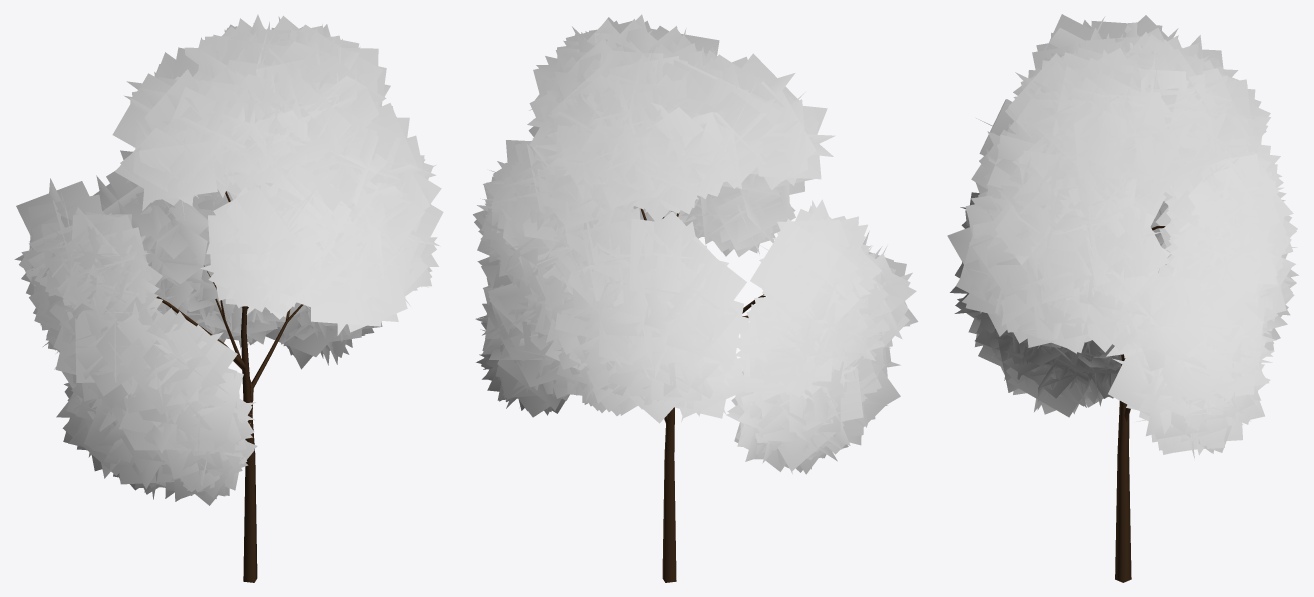
File: treeduckgame 1.fbx
The picture shows the model from 3 angles, left to right: view 1: azimuth 30°, elevation 25°; view 2: azimuth 150°, elevation 25°; view 3: azimuth 270°, elevation 25°; orthographic projection.
Visible parts, largest first — view 1: Leaves, trunk; view 2: Leaves, trunk; view 3: Leaves, trunk.
Boxes of the visible parts, x1,y1,x2,y2 form: Leaves: (14,14,443,505); trunk: (156,191,303,582); Leaves: (473,14,918,474); trunk: (641,208,765,582); Leaves: (947,14,1298,458); trunk: (1115,226,1165,582).
Size of the model in its own units: 5.3 by 7.41 by 4.31.
